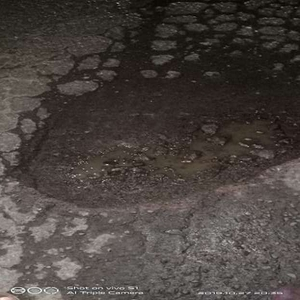pothole: (21, 96, 299, 209)
